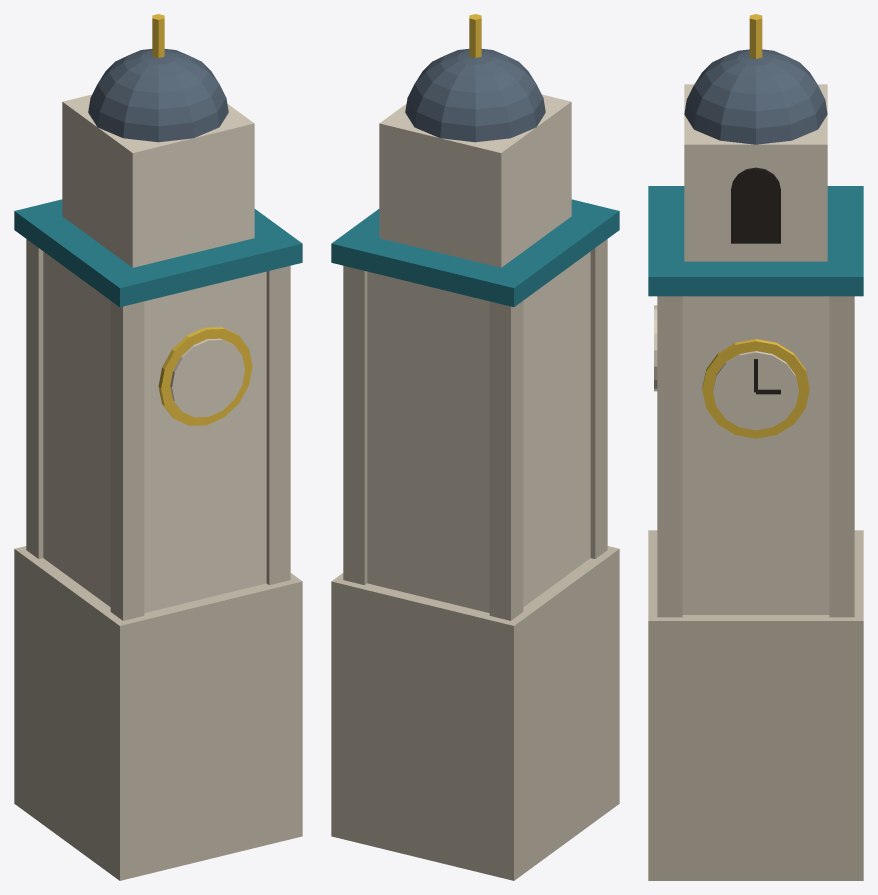
File: clock-tower.glb
3 views of the same model, side by side, from view 1: azimuth 30°, elevation 25°; view 2: azimuth 150°, elevation 25°; view 3: azimuth 270°, elevation 25° (orthographic).
Parts seen in each view (by area): view 1: clock-tower; view 2: clock-tower; view 3: clock-tower.
Boxes of the visible parts, x1,y1,x2,y2 form: clock-tower: (14,14,302,880); clock-tower: (331,14,619,880); clock-tower: (648,14,863,880).
Bounding box in the file's own units: 0.6 × 2.52 × 0.6.
